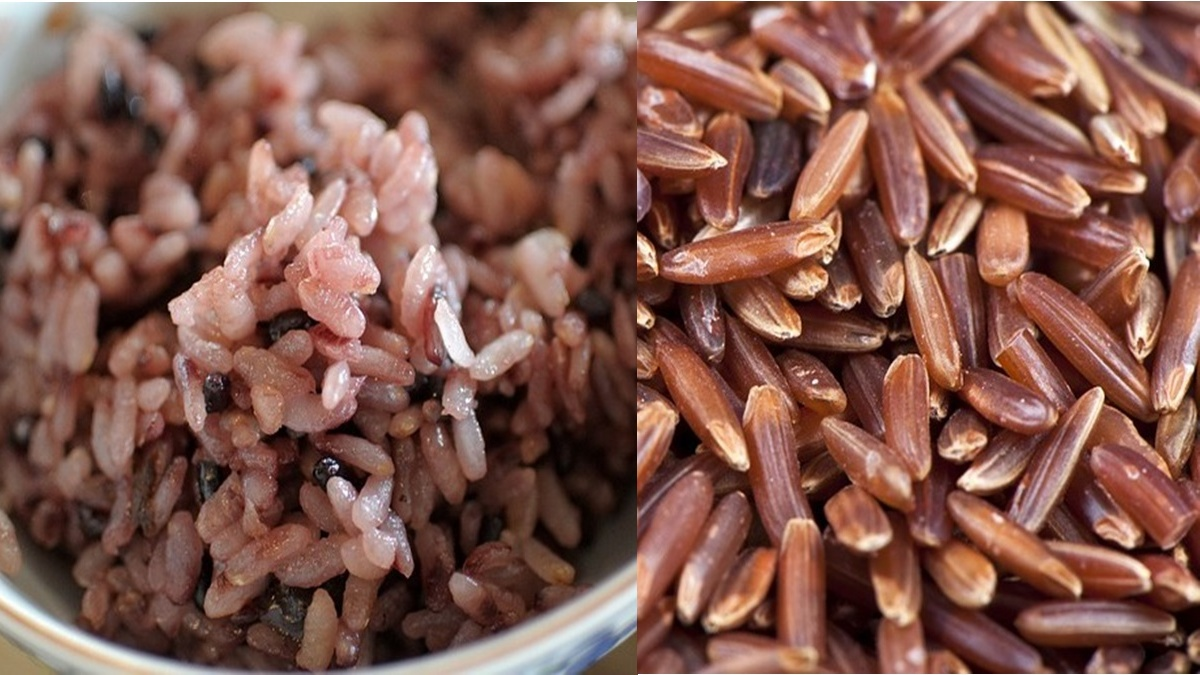Nasi Merah: (3, 70, 632, 675)
